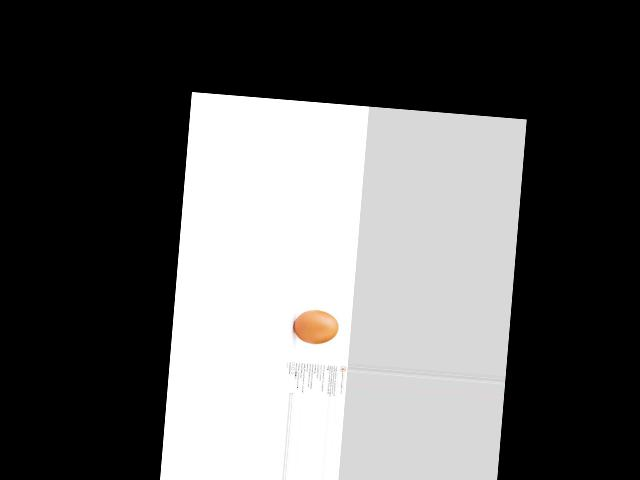egg: (292, 308, 339, 345)
